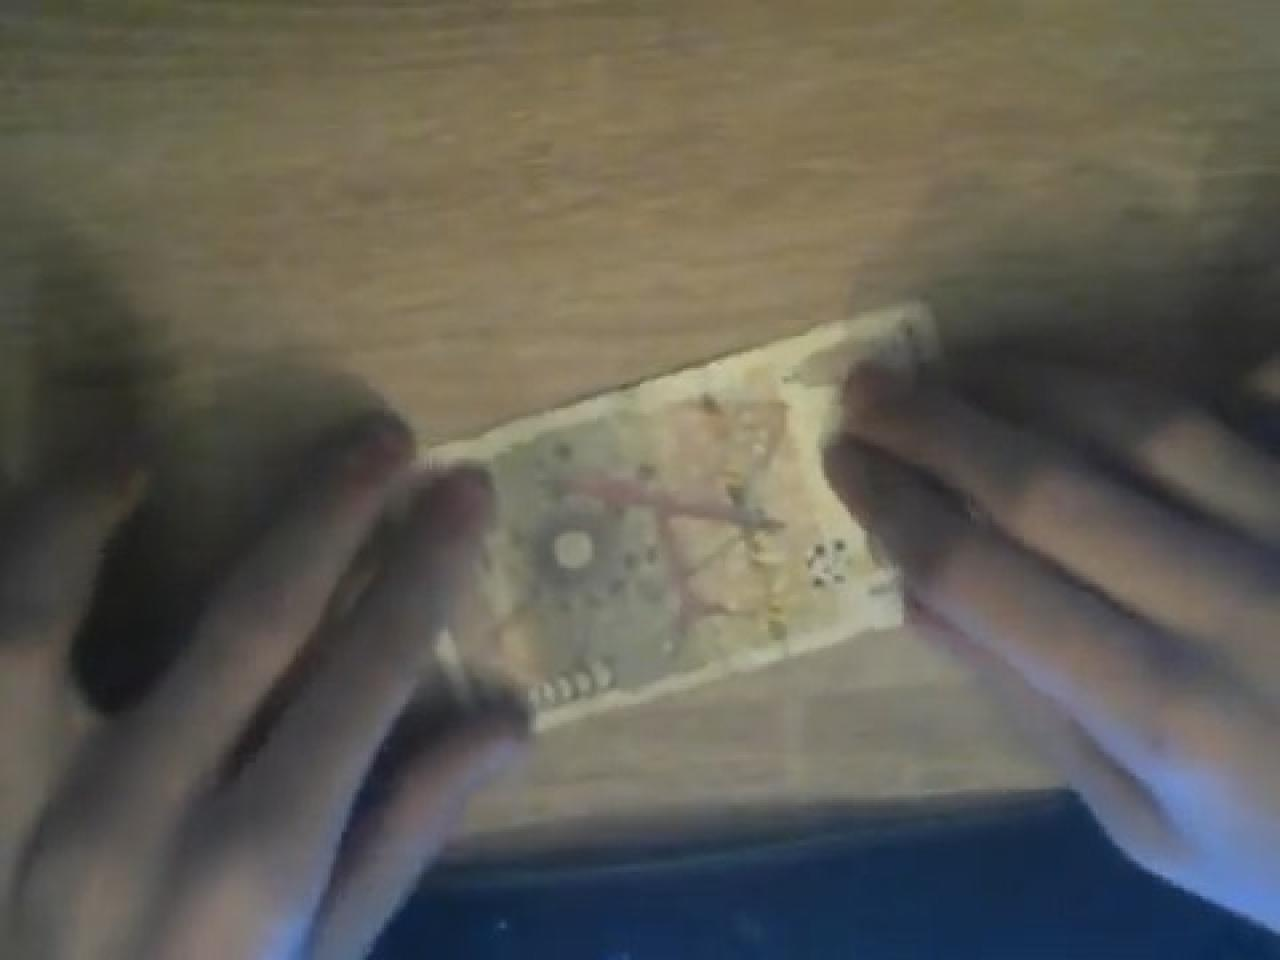10leva: (437, 302, 925, 725)
